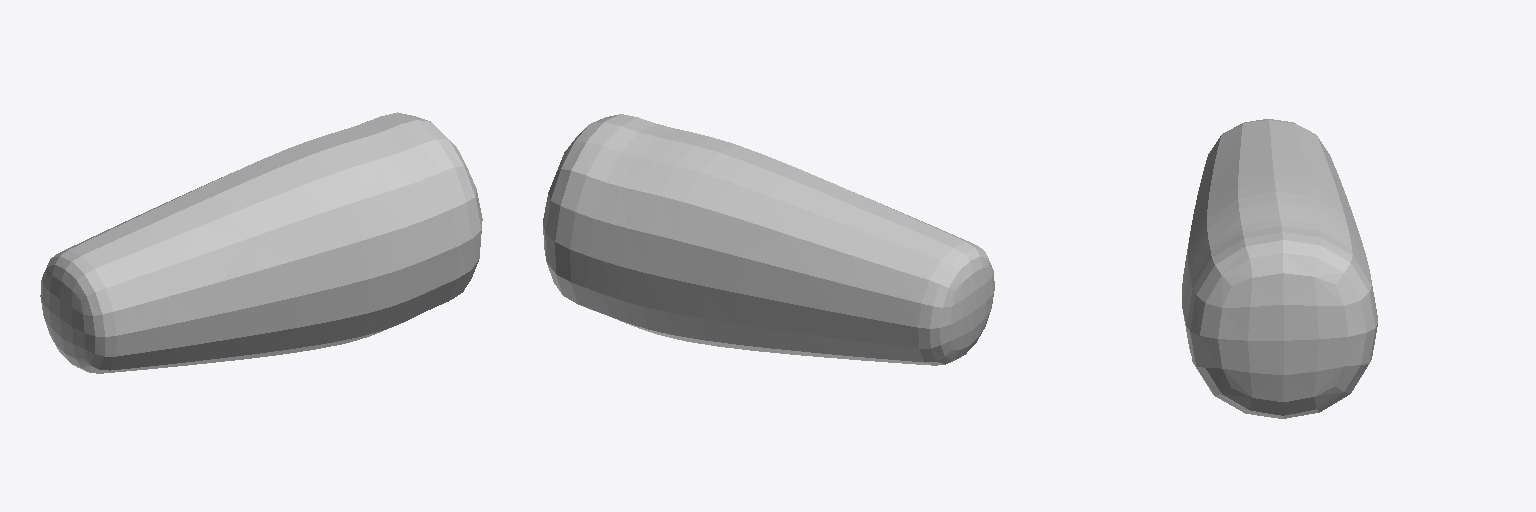
The model's file is m_rlarm.obj.
3 views of the same model, side by side, from view 1: azimuth 30°, elevation 25°; view 2: azimuth 150°, elevation 25°; view 3: azimuth 270°, elevation 25° (orthographic).
Visible parts, largest first — view 1: pCube6; view 2: pCube6; view 3: pCube6.
Boxes of the visible parts, x1=… form: pCube6: x1=40, y1=112, x2=482, y2=373; pCube6: x1=543, y1=114, x2=994, y2=365; pCube6: x1=1182, y1=119, x2=1377, y2=418.
Bounding box in the file's own units: 0.9642 × 0.435 × 0.4066.